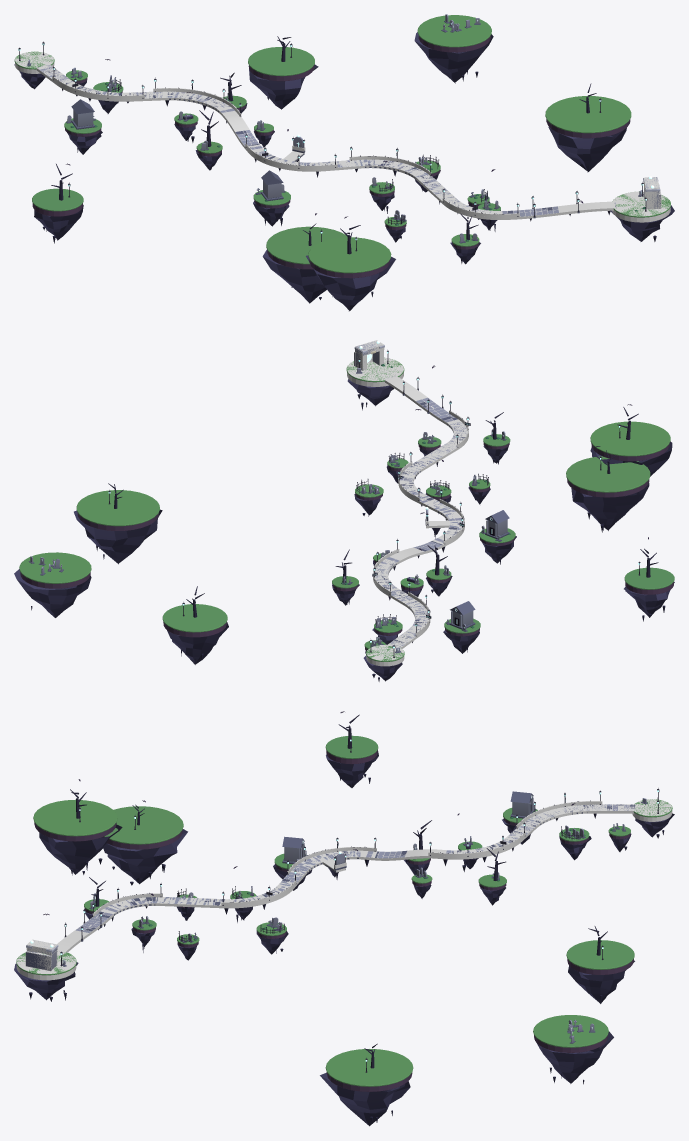
3 views of the same model, one above another, from view 1: azimuth 30°, elevation 25°; view 2: azimuth 150°, elevation 25°; view 3: azimuth 270°, elevation 25° (orthographic). The views are drawn at different scales.
Parts seen in each view (by area): view 1: V_moss, V_rock, C_0, V_stone, V_dirt, V_stone_dark, V_iron, V_beam_dark, C_1; view 2: V_moss, V_rock, C_0, V_stone, V_dirt, V_stone_dark, V_iron, V_beam_dark, C_1; view 3: V_moss, V_rock, C_0, V_stone, V_dirt, V_stone_dark, V_iron, V_beam_dark, V_rock_dark, C_1.
Part boxes in pixels (left/top/right/bottom): V_moss: left=14, top=15, right=670, bottom=273; V_rock: left=14, top=32, right=674, bottom=311; C_0: left=15, top=51, right=670, bottom=222; V_stone: left=28, top=14, right=659, bottom=242; V_dirt: left=32, top=35, right=630, bottom=278; V_stone_dark: left=27, top=21, right=660, bottom=243; V_iron: left=18, top=41, right=647, bottom=251; V_beam_dark: left=51, top=36, right=596, bottom=254; C_1: left=643, top=177, right=661, bottom=209; V_moss: left=19, top=357, right=674, bottom=661; V_rock: left=14, top=379, right=674, bottom=681; C_0: left=347, top=357, right=468, bottom=666; V_stone: left=30, top=341, right=507, bottom=652; V_dirt: left=20, top=442, right=673, bottom=650; V_stone_dark: left=29, top=352, right=509, bottom=653; V_iron: left=108, top=350, right=640, bottom=657; V_beam_dark: left=108, top=407, right=658, bottom=617; C_1: left=354, top=340, right=384, bottom=370; V_moss: left=16, top=735, right=672, bottom=1086; V_rock: left=14, top=750, right=674, bottom=1126; C_0: left=16, top=799, right=672, bottom=980; V_stone: left=28, top=797, right=646, bottom=1042; V_dirt: left=34, top=750, right=633, bottom=1091; V_stone_dark: left=26, top=791, right=647, bottom=1043; V_iron: left=60, top=738, right=659, bottom=1072; V_beam_dark: left=70, top=714, right=607, bottom=1068; V_rock_dark: left=29, top=774, right=664, bottom=1122; C_1: left=25, top=939, right=57, bottom=971.
Size of the model in its own units: 141 by 34.79 by 133.
